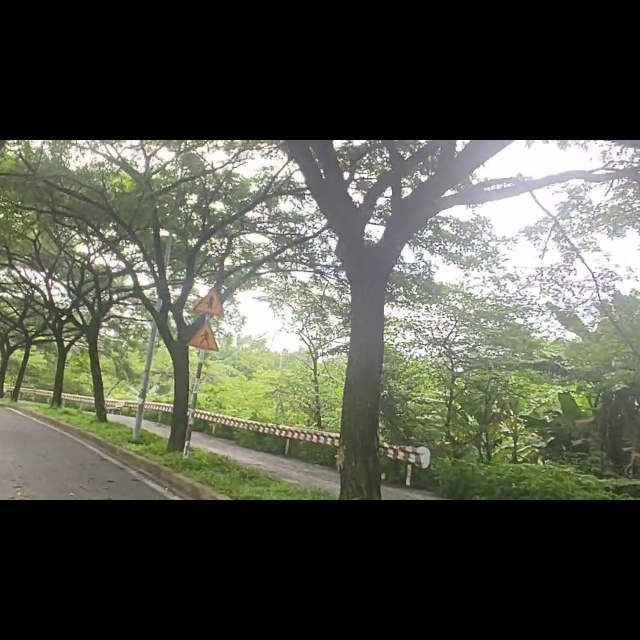bien_nguy_hiem: (182, 322, 224, 379), (193, 258, 227, 315)
